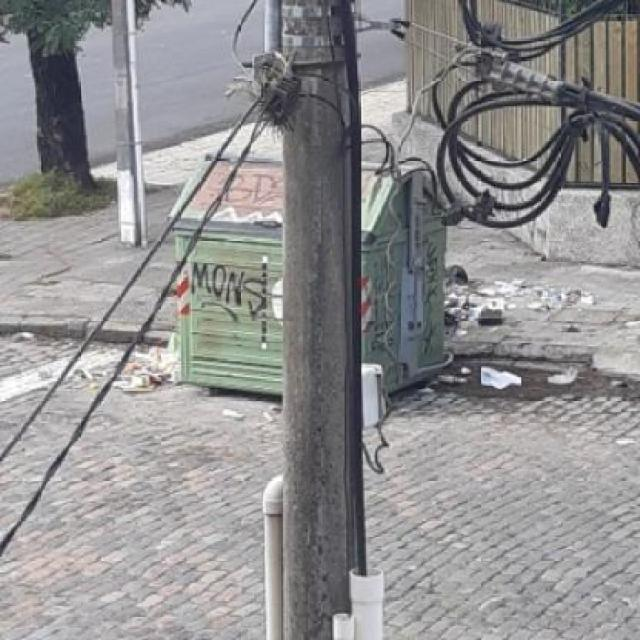garbage: (445, 262, 584, 330), (80, 351, 192, 390), (440, 363, 524, 390), (543, 363, 588, 396)
